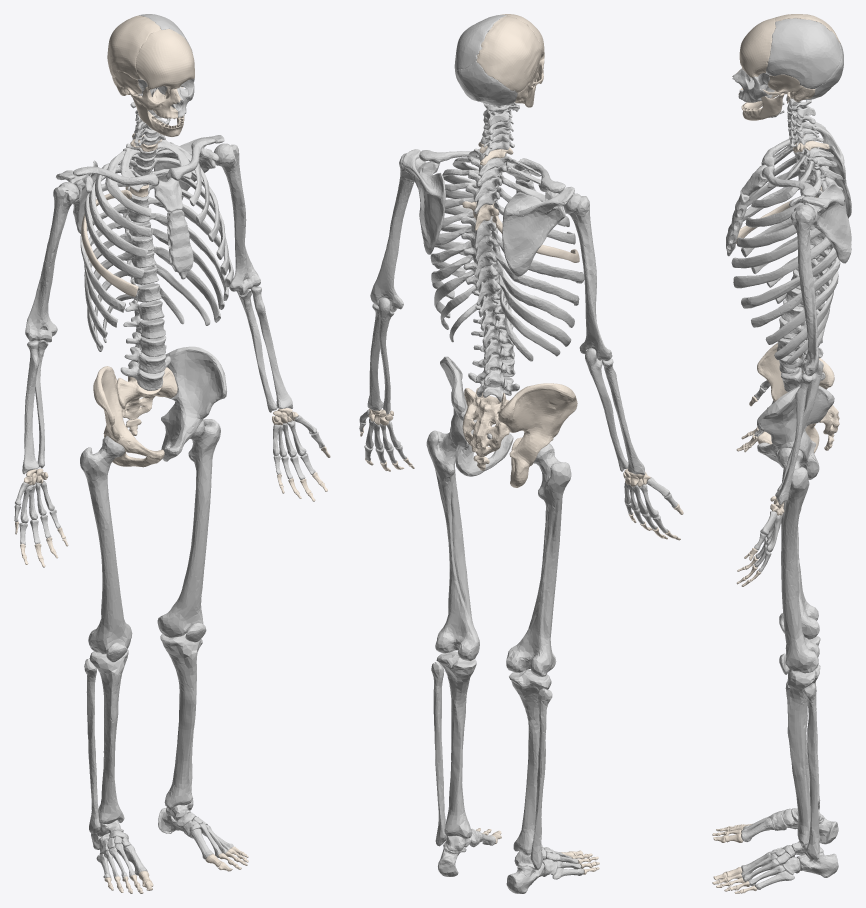
File: human_skeleton.glb
The picture shows the model from 3 angles, left to right: view 1: azimuth 30°, elevation 25°; view 2: azimuth 150°, elevation 25°; view 3: azimuth 270°, elevation 25°; orthographic projection. The views are drawn at different scales.
Visible parts, largest first — view 1: FMA24475, FMA24474, FMA16586, FMA24477, FMA24478, FMA52734, FMA23131, FMA23130, FMA16587, FMA7371, FMA52789, FMA16202 (+21 smaller); view 2: FMA24475, FMA24474, FMA16587, FMA13396, FMA52789, FMA24477, FMA24478, FMA23131, FMA13395, FMA16586, FMA23130, FMA16202 (+15 smaller); view 3: FMA24474, FMA52788, FMA16586, FMA24477, FMA23130, FMA13395, FMA24480, FMA16587, FMA52734, FMA23464, FMA7371, FMA8229 (+27 smaller).
Part boxes in pixels (<box>): FMA24475: <box>80,435,132,654</box>; FMA24474: <box>157,419,220,637</box>; FMA16586: <box>161,346,226,461</box>; FMA24477: <box>160,633,201,810</box>; FMA24478: <box>89,649,128,824</box>; FMA52734: <box>136,29,194,89</box>; FMA23131: <box>25,182,79,342</box>; FMA23130: <box>214,143,260,295</box>; FMA16587: <box>93,366,164,467</box>; FMA7371: <box>154,177,193,279</box>; FMA52789: <box>107,15,160,79</box>; FMA16202: <box>116,367,177,419</box>; FMA24475: <box>506,443,571,676</box>; FMA24474: <box>426,427,479,660</box>; FMA16587: <box>498,383,577,487</box>; FMA13396: <box>502,186,574,276</box>; FMA52789: <box>476,16,541,92</box>; FMA24477: <box>436,651,476,838</box>; FMA24478: <box>509,670,551,855</box>; FMA23131: <box>563,193,612,360</box>; FMA13395: <box>402,149,445,254</box>; FMA16586: <box>440,356,513,476</box>; FMA23130: <box>370,153,425,312</box>; FMA16202: <box>462,387,509,456</box>; FMA24474: <box>777,447,819,673</box>; FMA52788: <box>766,18,841,88</box>; FMA16586: <box>757,385,834,479</box>; FMA24477: <box>785,664,820,845</box>; FMA23130: <box>790,204,818,376</box>; FMA13395: <box>789,183,851,263</box>; FMA24480: <box>802,683,819,860</box>; FMA16587: <box>757,343,834,453</box>; FMA52734: <box>739,17,775,77</box>; FMA23464: <box>775,374,812,504</box>; FMA7371: <box>726,164,767,256</box>; FMA8229: <box>741,247,837,308</box>.
Bounding box in the file's own units: 0.6924 × 1.75 × 0.2623.
